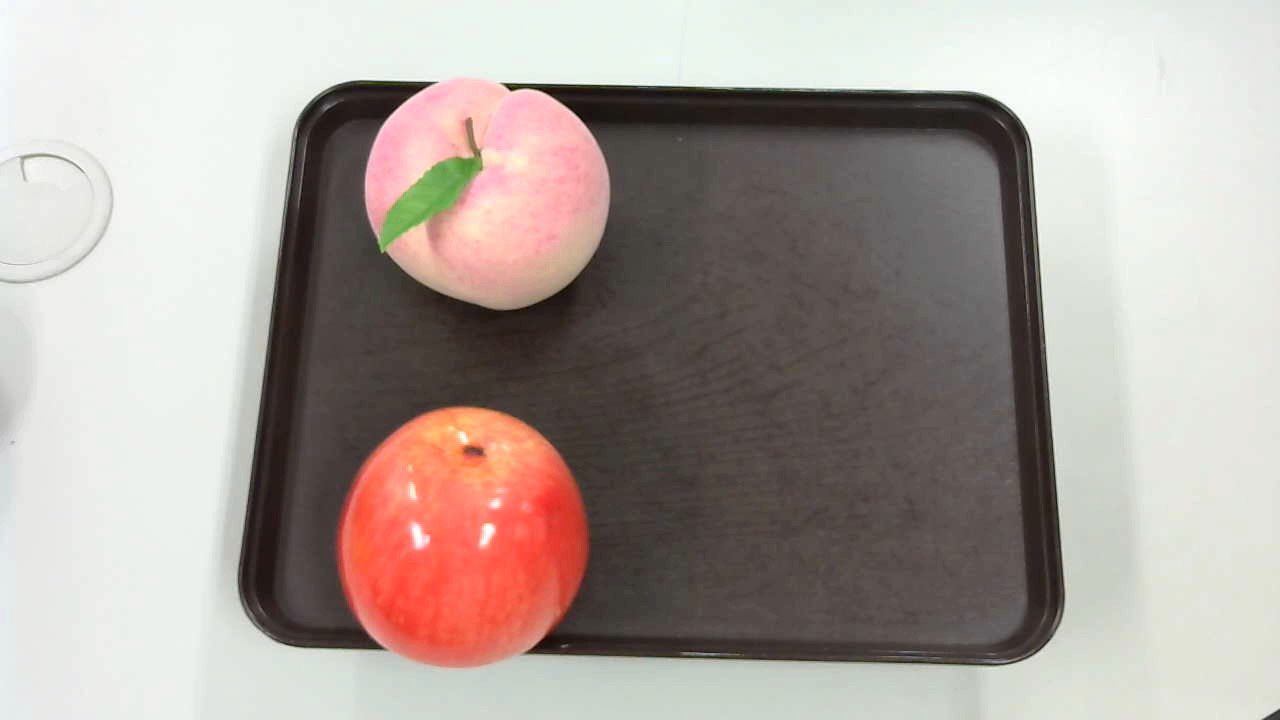peach: (360, 78, 616, 313)
red apple: (331, 400, 592, 668)
